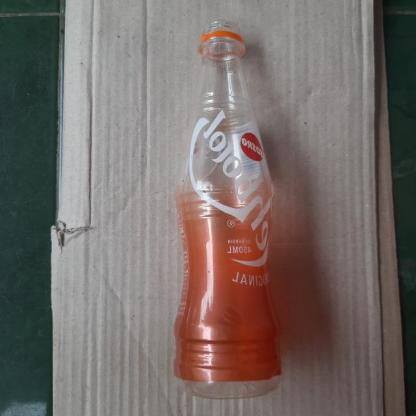Plastic Bottle: (132, 30, 326, 416)
